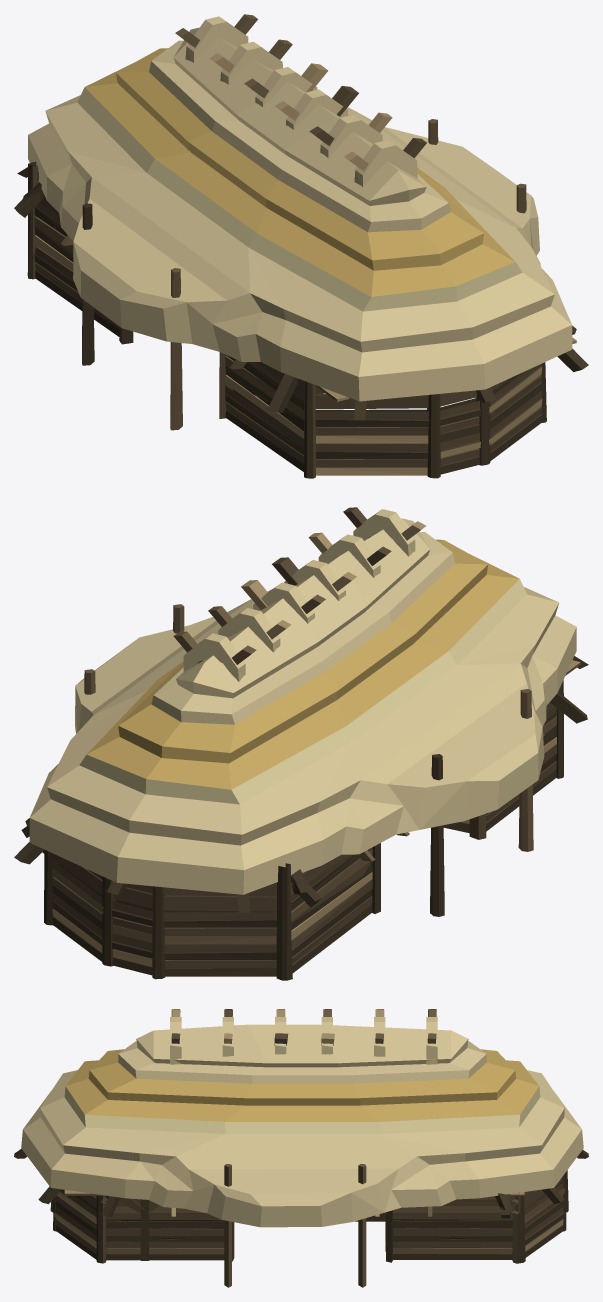
File: EA03_Village_OutBuilding_Shed_03b.glb
The picture shows the model from 3 angles, top to bottom: view 1: azimuth 30°, elevation 25°; view 2: azimuth 150°, elevation 25°; view 3: azimuth 270°, elevation 25°; orthographic projection. The views are drawn at different scales.
Parts seen in each view (by area): view 1: EA03_Village_OutBuilding_Shed_03b; view 2: EA03_Village_OutBuilding_Shed_03b; view 3: EA03_Village_OutBuilding_Shed_03b.
Boxes of the visible parts, box(x1,y1,x2,y2) form: EA03_Village_OutBuilding_Shed_03b: box(14, 14, 588, 478); EA03_Village_OutBuilding_Shed_03b: box(14, 507, 588, 980); EA03_Village_OutBuilding_Shed_03b: box(14, 1009, 588, 1287).
Size of the model in its own units: 15.45 by 9.51 by 24.47.
Materials: 1 (1 with a texture image).
